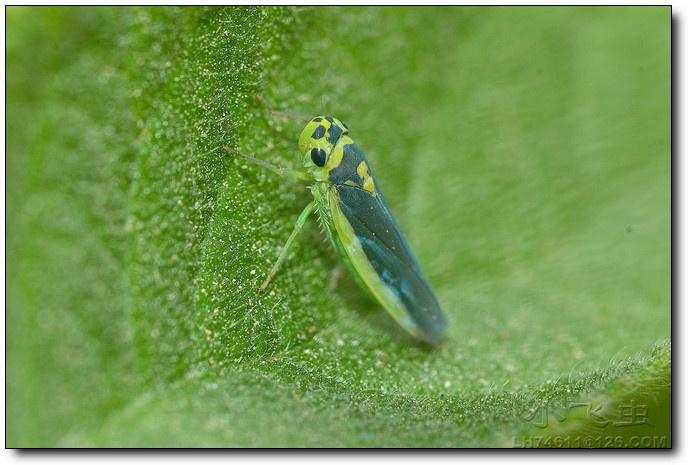Cicadellidae: (220, 95, 454, 347)
